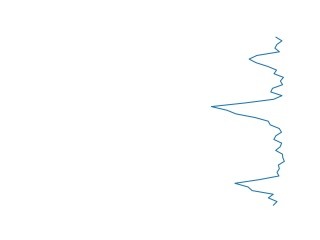underwaterNaturalLevee: (207, 36, 289, 209)
